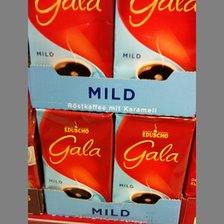coffee: (35, 108, 113, 203), (114, 114, 194, 203), (28, 1, 113, 77), (115, 1, 195, 81)
